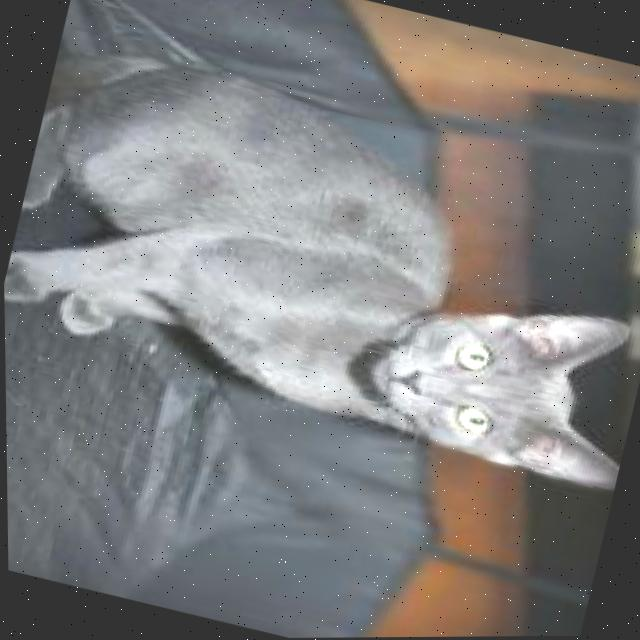Russian Blue: (0, 25, 640, 498)
